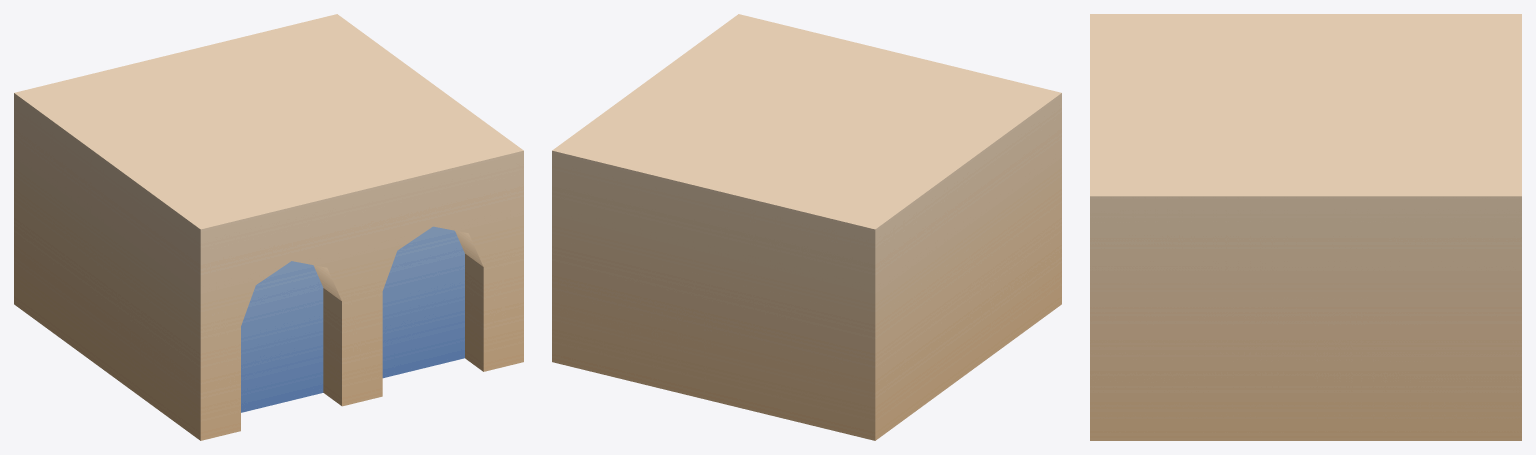
Rendered from building-windows-high-top-round.glb.
The picture shows the model from 3 angles, left to right: view 1: azimuth 30°, elevation 25°; view 2: azimuth 150°, elevation 25°; view 3: azimuth 270°, elevation 25°; orthographic projection. The views are drawn at different scales.
Visible parts, largest first — view 1: building-windows-high-top-round; view 2: building-windows-high-top-round; view 3: building-windows-high-top-round.
Boxes of the visible parts, bbox=[...] form: building-windows-high-top-round: bbox=[14, 14, 523, 440]; building-windows-high-top-round: bbox=[552, 14, 1061, 440]; building-windows-high-top-round: bbox=[1090, 14, 1521, 440].
Bounding box in the file's own units: 1 × 0.625 × 1.
1 material, 1 textured.
